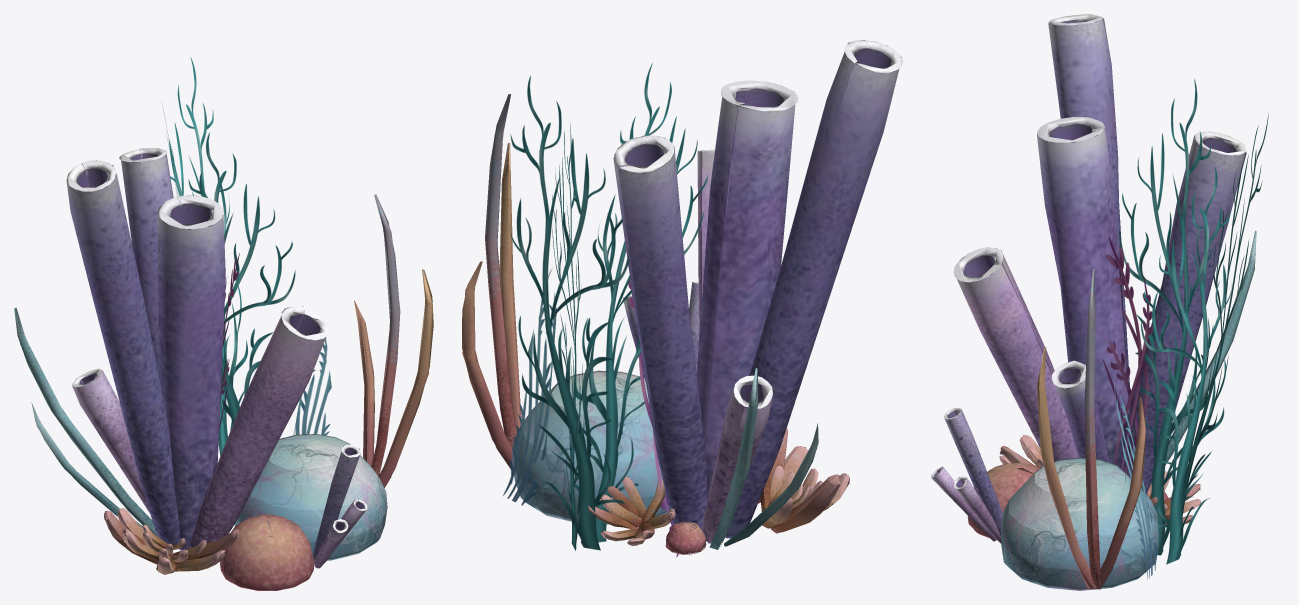
Rendered from coral_piece.glb.
3 renders of one model, left to right at view 1: azimuth 30°, elevation 25°; view 2: azimuth 150°, elevation 25°; view 3: azimuth 270°, elevation 25°, orthographic. The views are drawn at different scales.
Parts seen in each view (by area): view 1: polySurface267_lambert3_0, polySurface223_planes_0; view 2: polySurface267_lambert3_0, polySurface223_planes_0; view 3: polySurface267_lambert3_0, polySurface223_planes_0.
Boxes of the visible parts, x1,y1,x2,y2 form: polySurface267_lambert3_0: [14, 148, 433, 590]; polySurface223_planes_0: [162, 57, 331, 456]; polySurface267_lambert3_0: [462, 40, 902, 554]; polySurface223_planes_0: [503, 63, 707, 557]; polySurface267_lambert3_0: [931, 14, 1256, 590]; polySurface223_planes_0: [1102, 79, 1268, 579].
Size of the model in its own units: 3.1 by 4.06 by 2.64.
Materials: 2 (2 with a texture image).
